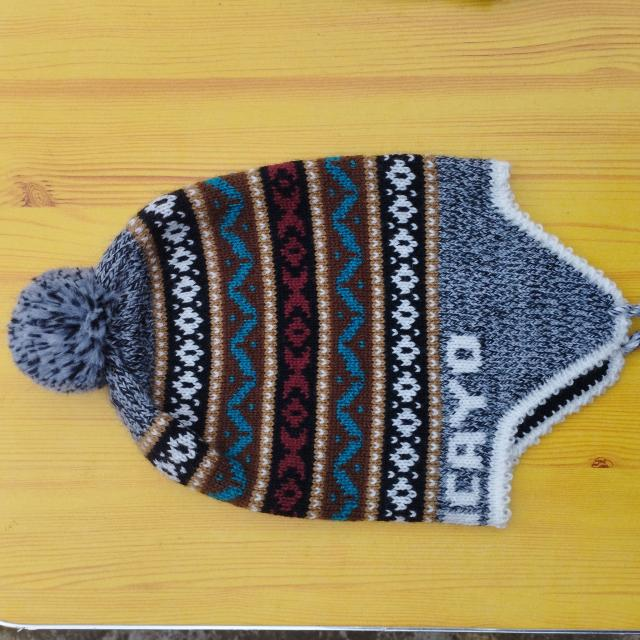Gorro: (7, 152, 639, 528)
